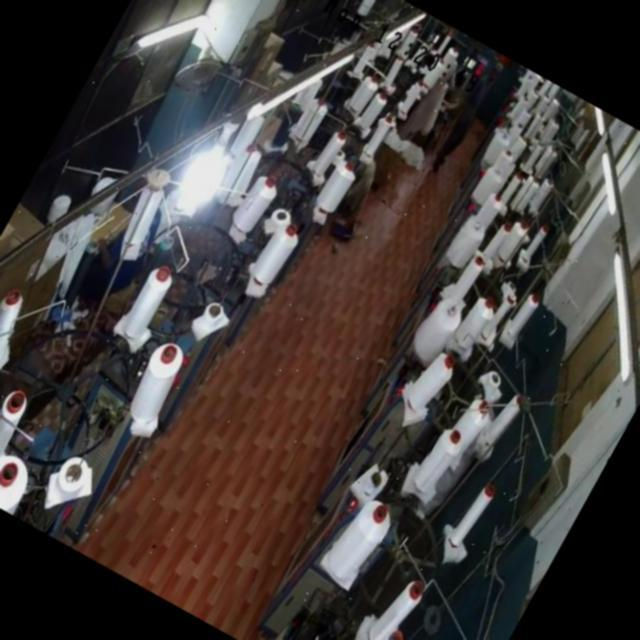person: (433, 58, 506, 170), (401, 58, 462, 150)
